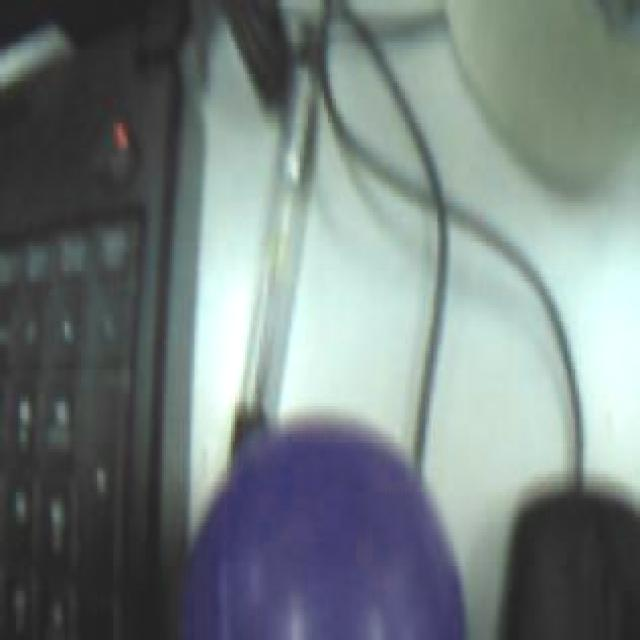BallPurple: (186, 421, 465, 640)
